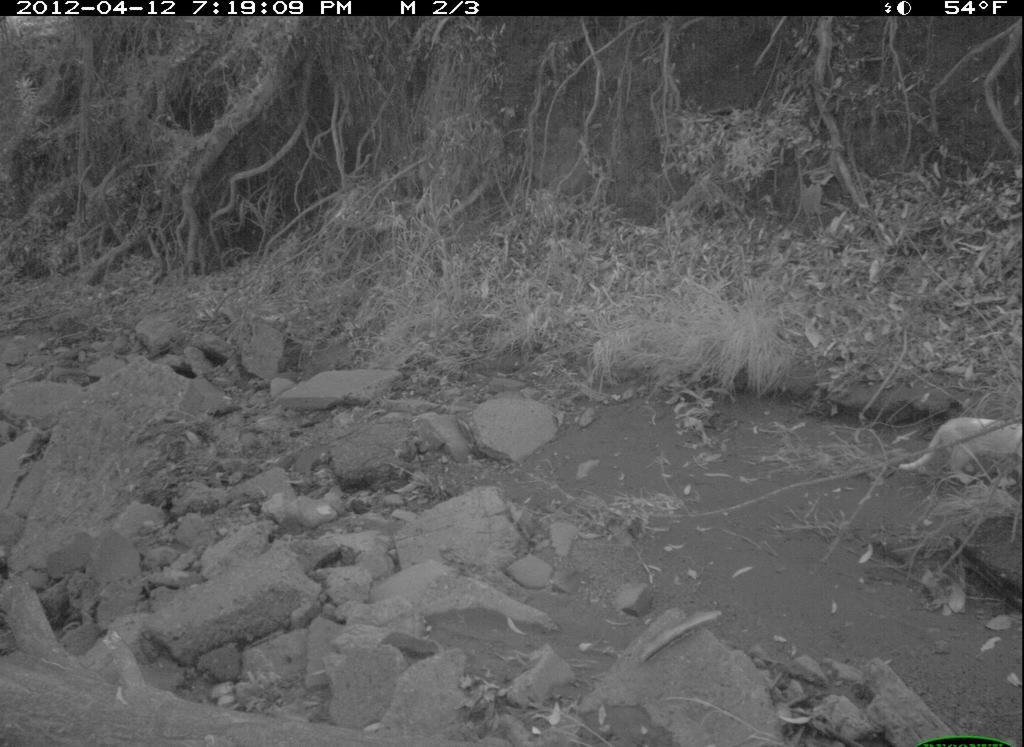cat: (893, 411, 1023, 506)
